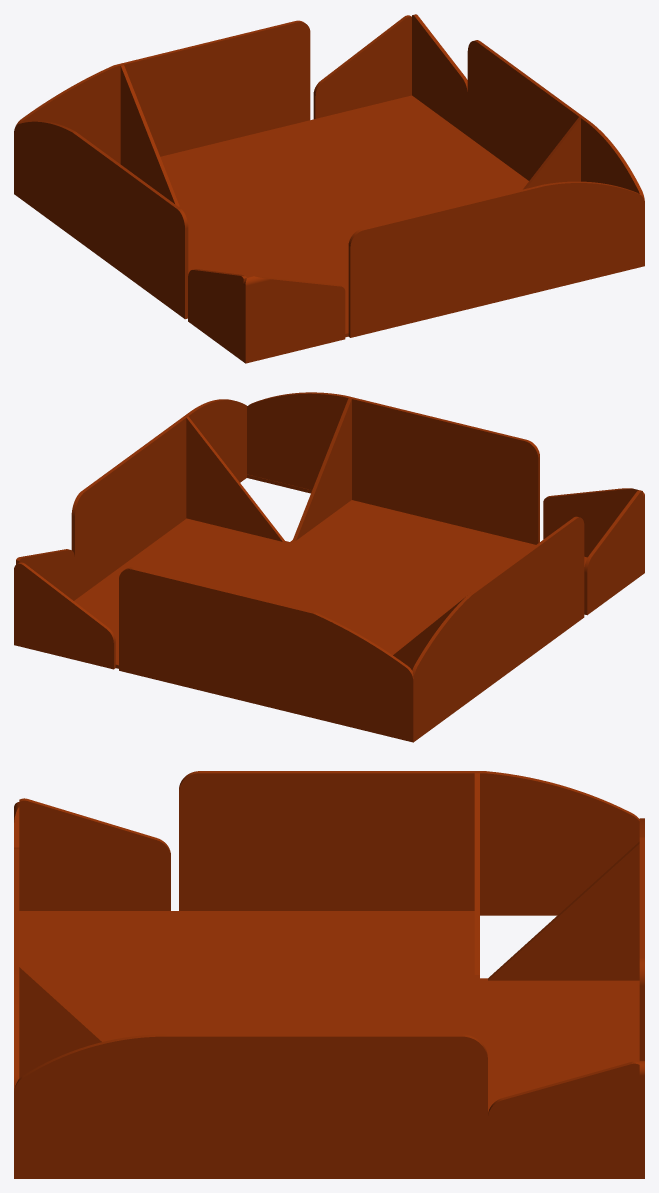
File: modelo1.glb
The picture shows the model from 3 angles, top to bottom: view 1: azimuth 30°, elevation 25°; view 2: azimuth 150°, elevation 25°; view 3: azimuth 270°, elevation 25°; orthographic projection. The views are drawn at different scales.
Visible parts, largest first — view 1: porta_mani; view 2: porta_mani; view 3: porta_mani.
Boxes of the visible parts, <box> form: porta_mani: <box>14,14,644,363</box>; porta_mani: <box>14,392,644,742</box>; porta_mani: <box>14,771,644,1178</box>.
Bounding box in the file's own units: 120 × 30.01 × 121.
